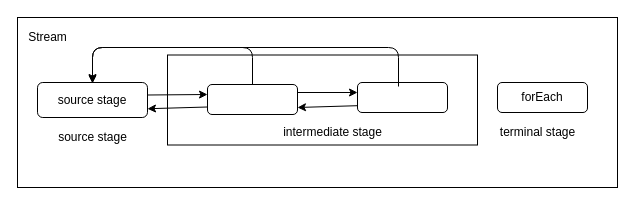
Image size: 635x205. Some labels were removed from this diagram. The box of each missing label's shape, as (x1, y1, x2, y2) in pixels:
distinct: (206, 84, 298, 114)
map: (356, 82, 448, 112)
